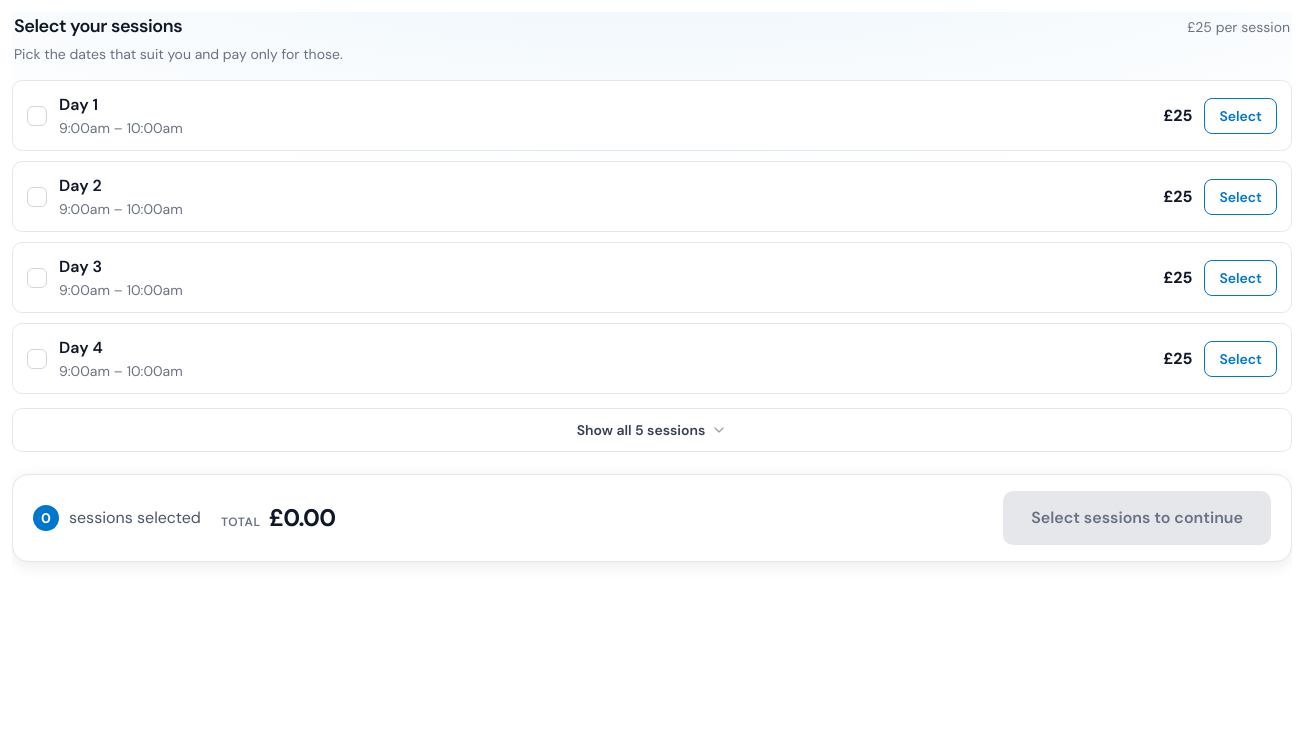
it: SessionPicker — collapse toggle › toggle label changes to "Show fewer" after expanding
Click the button with test id "toggle-sessions" at point(652, 430), box [12,408,1292,452]
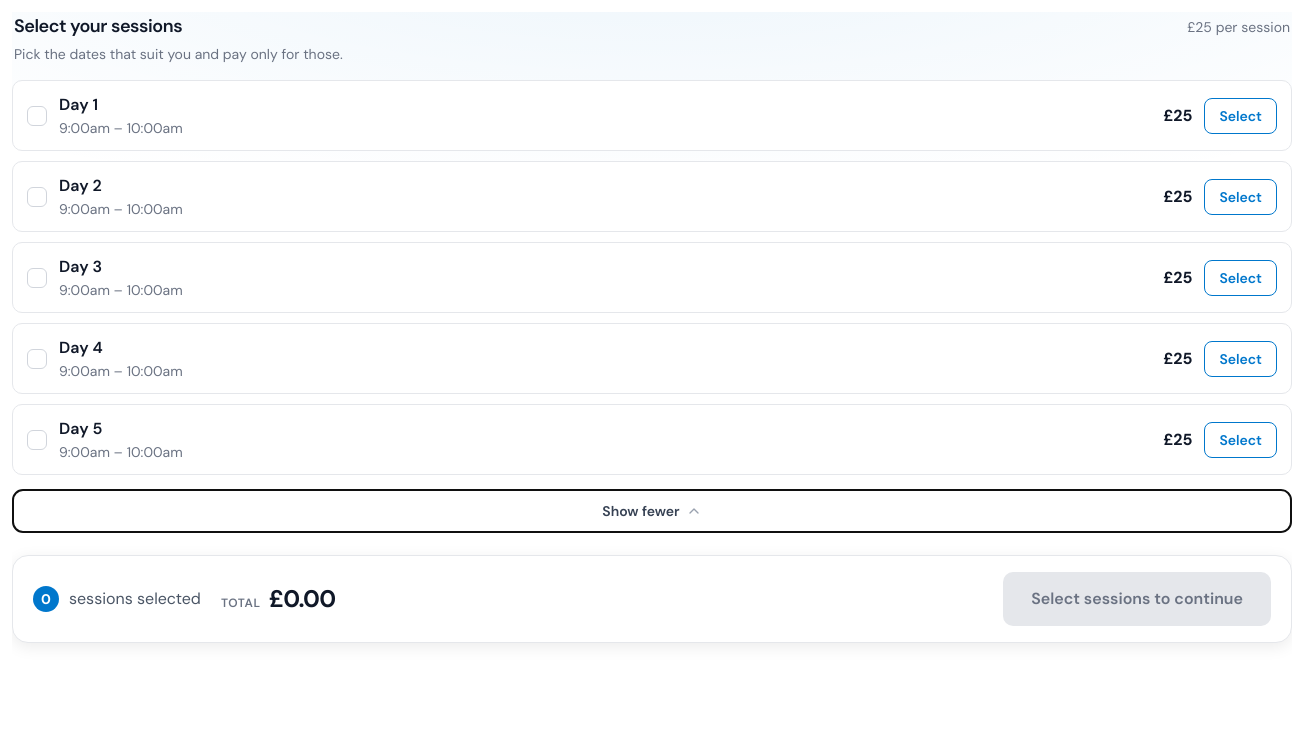
Result: the button with test id "toggle-sessions" reads "Show fewer" at [12,489,1292,533]
